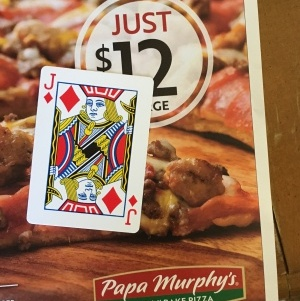card: (25, 65, 154, 236)
